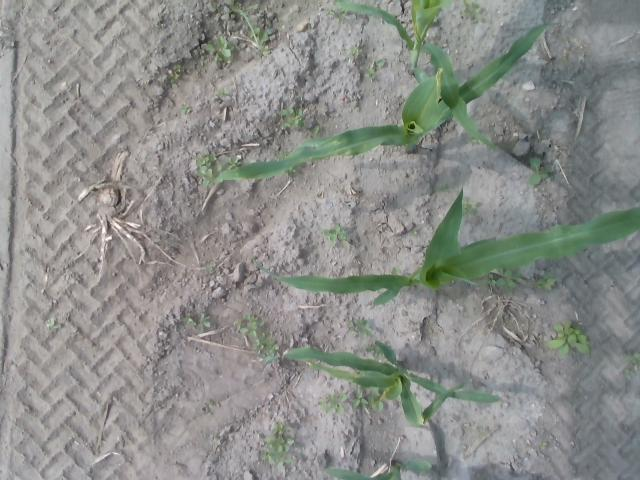Maize: (214, 23, 561, 180), (256, 187, 640, 306), (332, 0, 502, 154), (284, 344, 502, 424), (318, 457, 432, 479)
Weeds: (548, 320, 593, 359), (264, 422, 292, 466), (348, 389, 388, 417), (208, 34, 238, 68), (182, 309, 216, 335), (324, 226, 352, 254), (321, 390, 348, 419), (280, 104, 306, 134), (236, 314, 268, 338), (251, 29, 273, 60), (527, 156, 549, 186), (254, 338, 280, 362), (194, 152, 214, 182), (367, 55, 388, 82), (499, 271, 523, 294), (466, 1, 488, 26), (624, 348, 640, 380), (537, 272, 561, 292), (351, 319, 374, 339), (43, 314, 66, 332), (171, 63, 184, 85), (226, 153, 244, 168), (214, 87, 233, 101), (312, 120, 324, 139), (181, 104, 193, 118), (351, 50, 362, 61)
